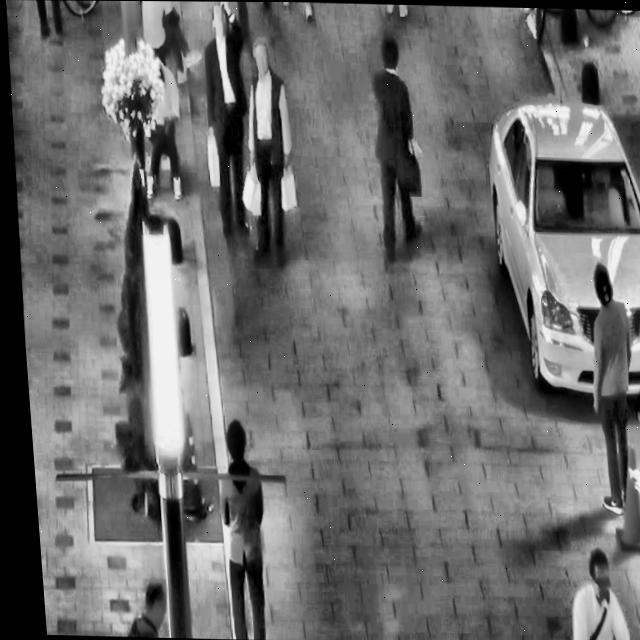light_vehicle: (470, 79, 640, 403)
